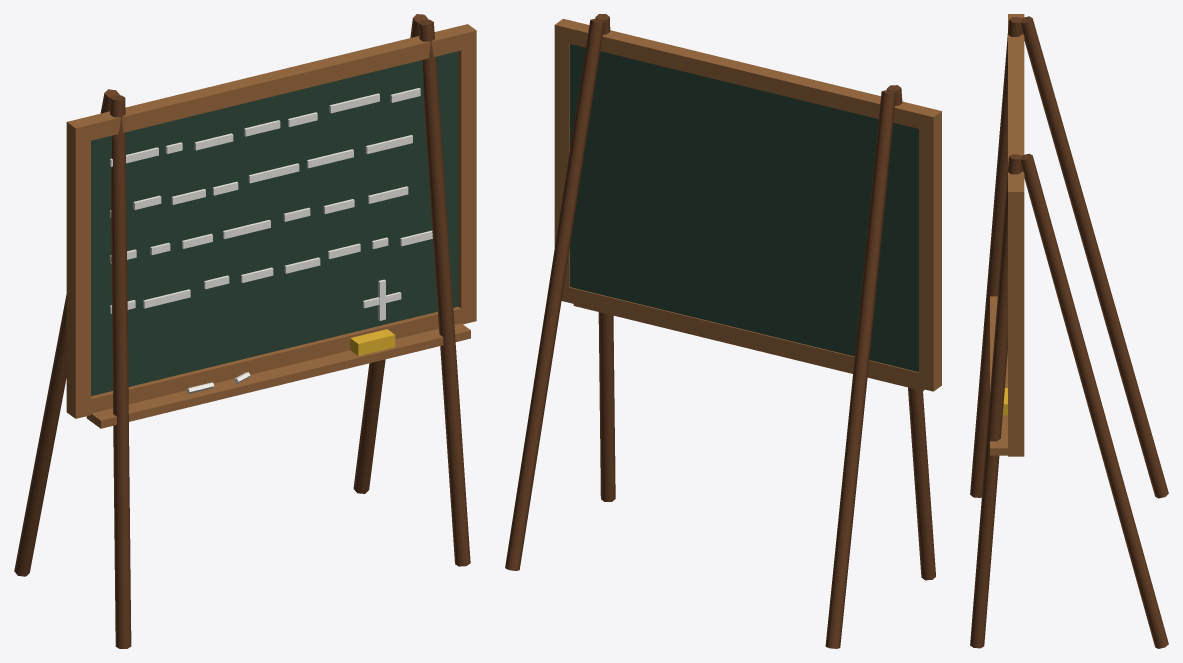
Rendered from blackboard.glb.
3 views of the same model, side by side, from view 1: azimuth 30°, elevation 25°; view 2: azimuth 150°, elevation 25°; view 3: azimuth 270°, elevation 25° (orthographic). The views are drawn at different scales.
Parts seen in each view (by area): view 1: Board, Board frame, Easel legs, Chalk writing, Chalk tray, Board sponge; view 2: Board, Easel legs, Board frame, Chalk tray; view 3: Easel legs, Board frame, Chalk tray.
Part boxes in pixels (x1,y1,x2,y2): Board: (91,51,458,396); Board frame: (66,24,476,418); Easel legs: (14,14,470,648); Chalk writing: (110,88,432,320); Chalk tray: (86,323,470,428); Board sponge: (350,329,395,355); Board: (570,44,918,371); Easel legs: (505,14,935,648); Board frame: (554,18,941,391); Chalk tray: (573,304,924,390); Easel legs: (970,16,1168,648); Board frame: (1008,14,1024,456); Chalk tray: (990,296,1007,455).
Size of the model in its own units: 1.3 by 1.65 by 0.6133.
